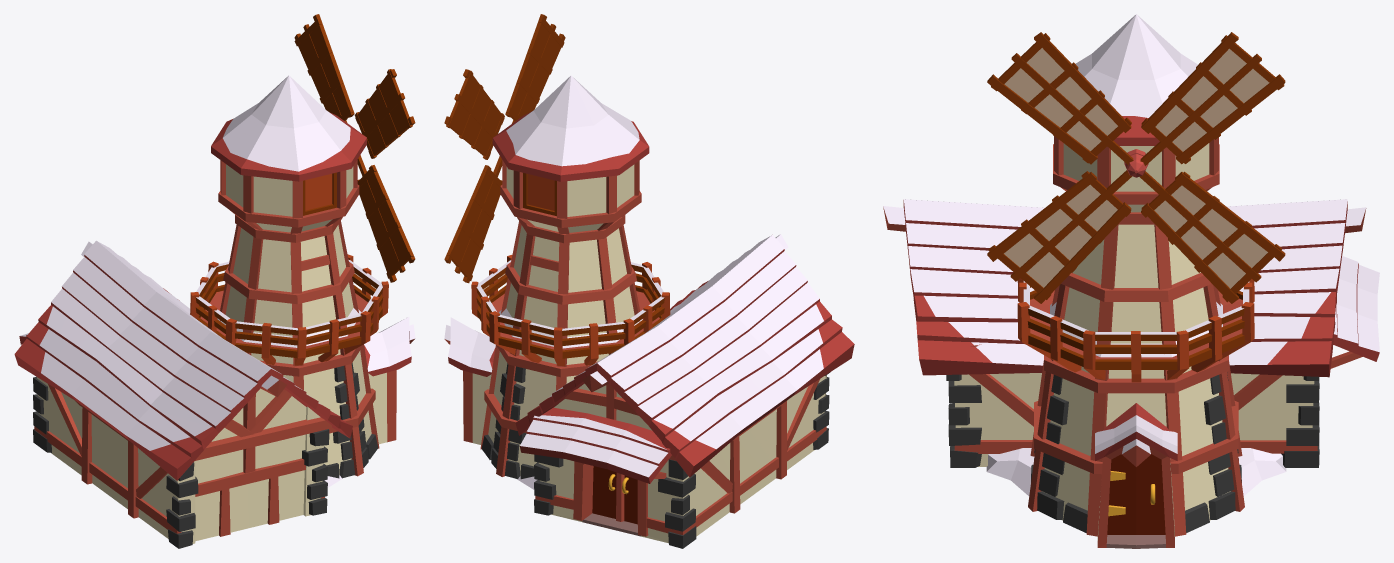
Rendered from Molino.fbx.
The picture shows the model from 3 angles, left to right: view 1: azimuth 30°, elevation 25°; view 2: azimuth 150°, elevation 25°; view 3: azimuth 270°, elevation 25°; orthographic projection. The views are drawn at different scales.
Visible parts, largest first — view 1: Windmill_Cube.145, Windmill_Cube.000; view 2: Windmill_Cube.145, Windmill_Cube.000; view 3: Windmill_Cube.145, Windmill_Cube.000.
Boxes of the visible parts, x1,y1,x2,y2 form: Windmill_Cube.145: (14,75,415,548); Windmill_Cube.000: (294,14,415,282); Windmill_Cube.145: (444,75,854,548); Windmill_Cube.000: (444,14,565,283); Windmill_Cube.145: (883,14,1379,548); Windmill_Cube.000: (987,32,1285,303).
Size of the model in its own units: 576 by 670 by 605.
